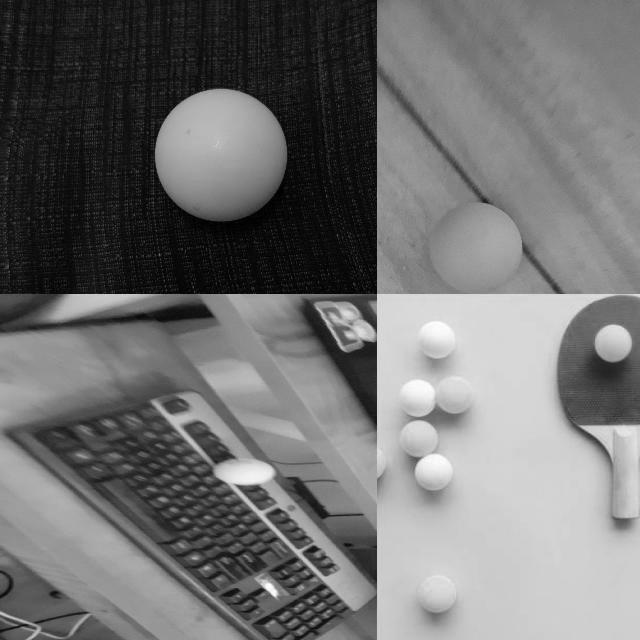ping-pong-ball: (154, 89, 288, 220), (430, 201, 520, 291), (212, 460, 272, 486), (399, 419, 437, 457), (435, 376, 473, 414), (595, 324, 633, 362), (418, 320, 456, 358), (397, 377, 435, 415), (418, 575, 456, 613), (415, 455, 453, 493), (377, 445, 386, 483)
